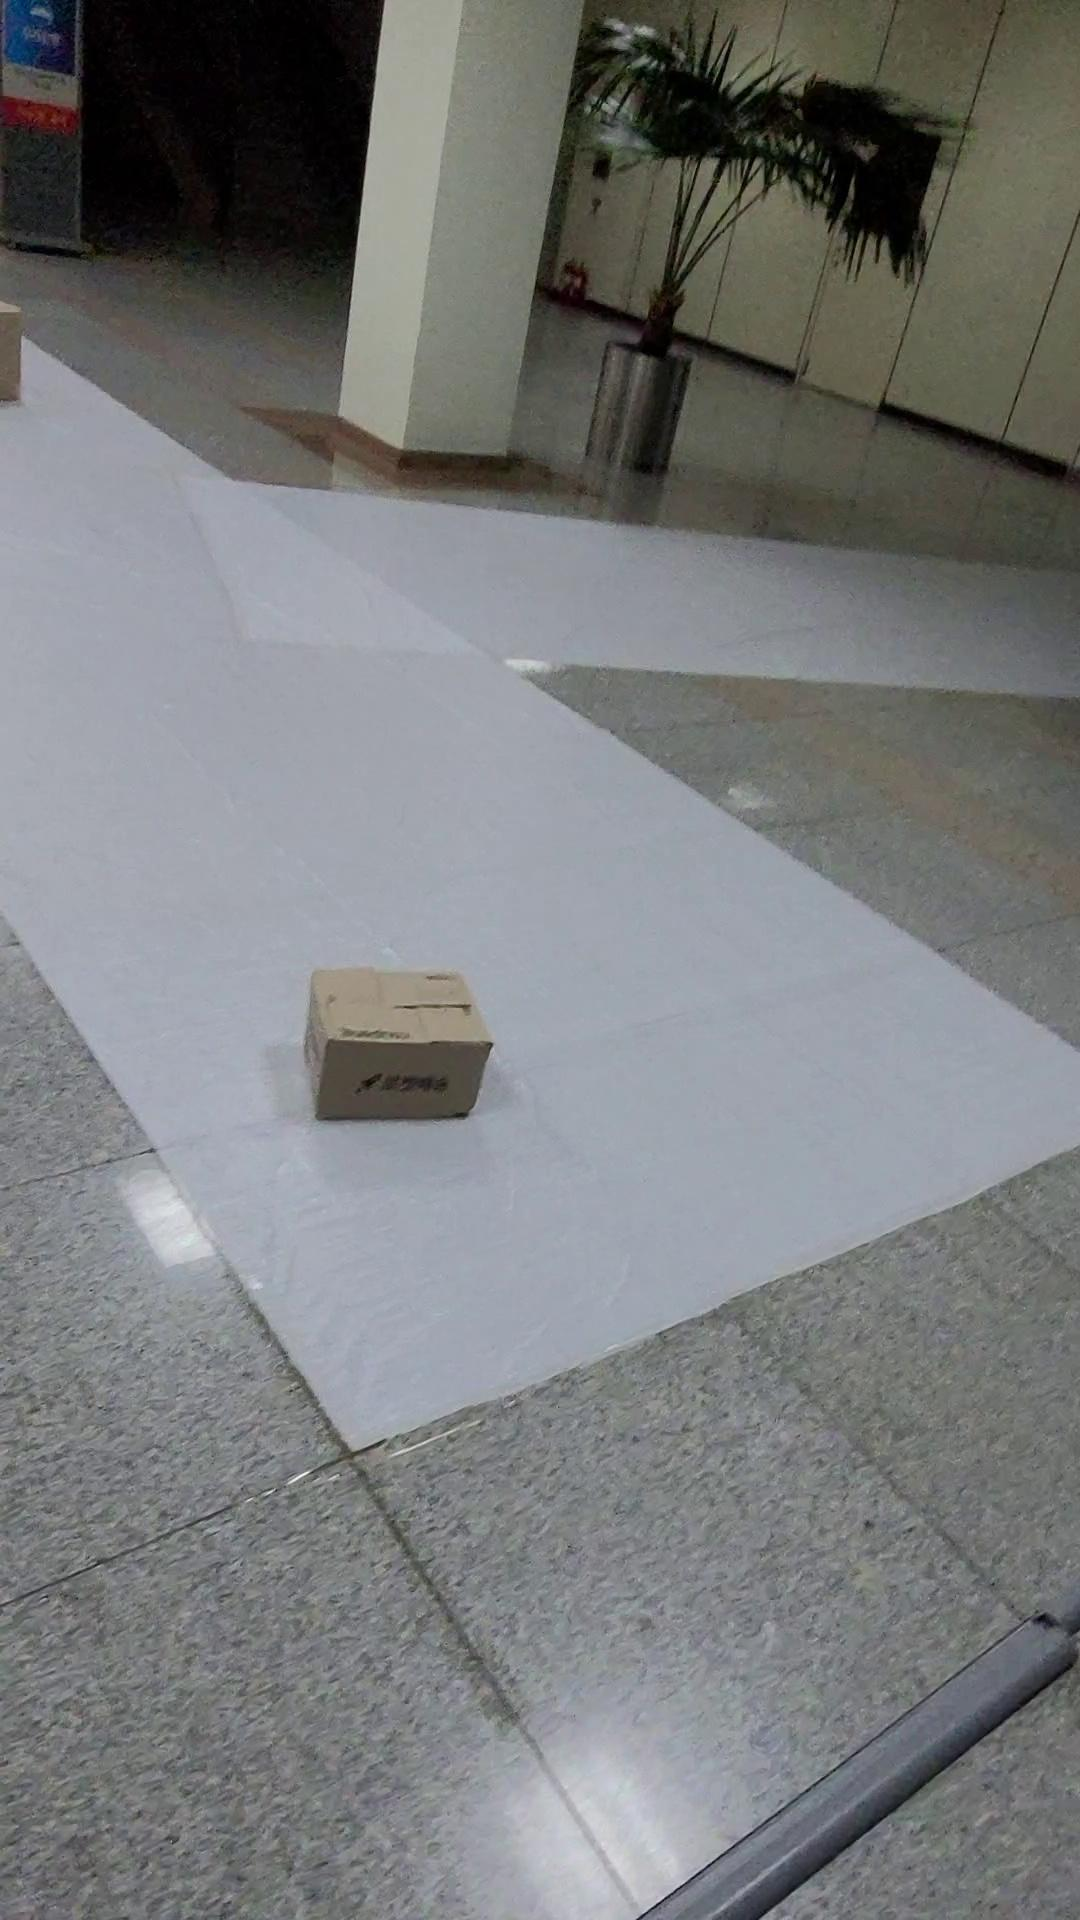Box: (276, 935, 520, 1156)
